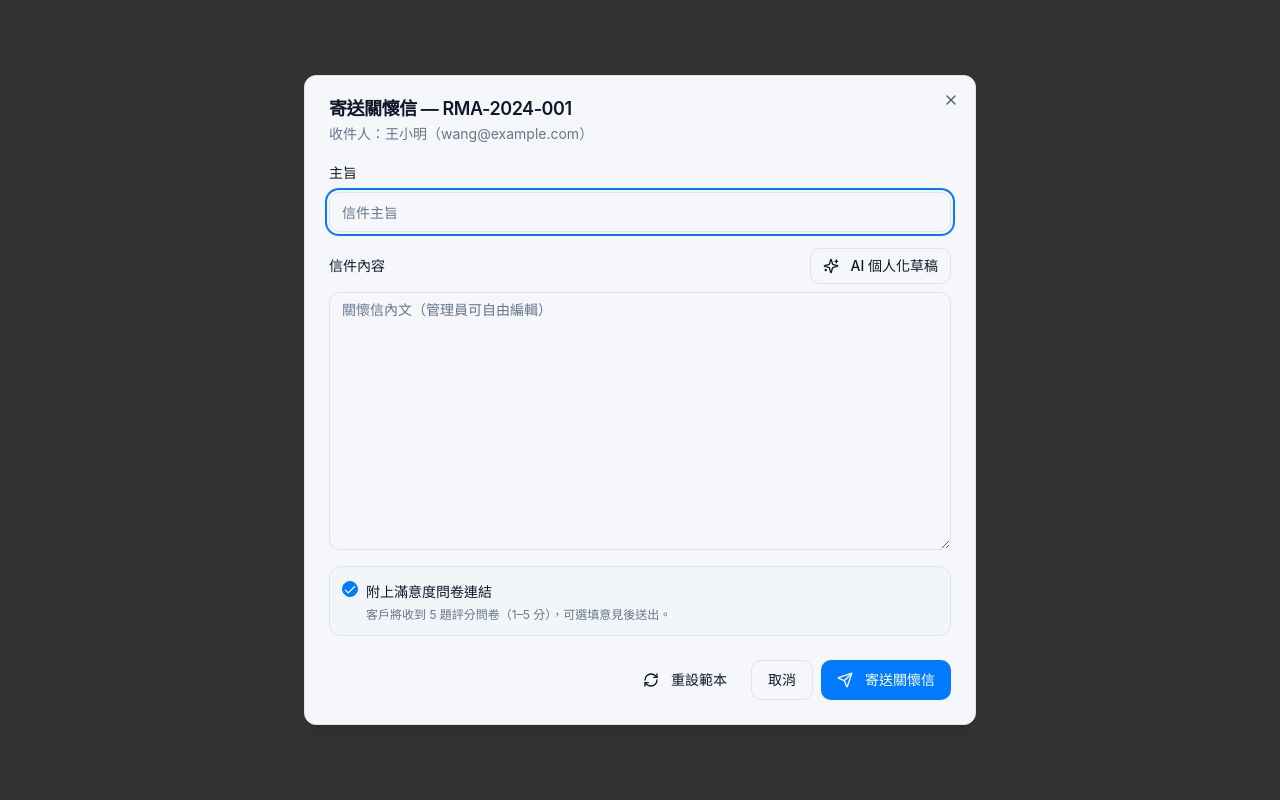
Test: FollowUpEmailDialog - AI 草稿 › 點「AI 個人化草稿」→ 呼叫 draft-follow-up-email，成功後填入 body 並顯示 toast
Click the button "AI 個人化草稿": point(880, 266) [810, 248, 951, 284]
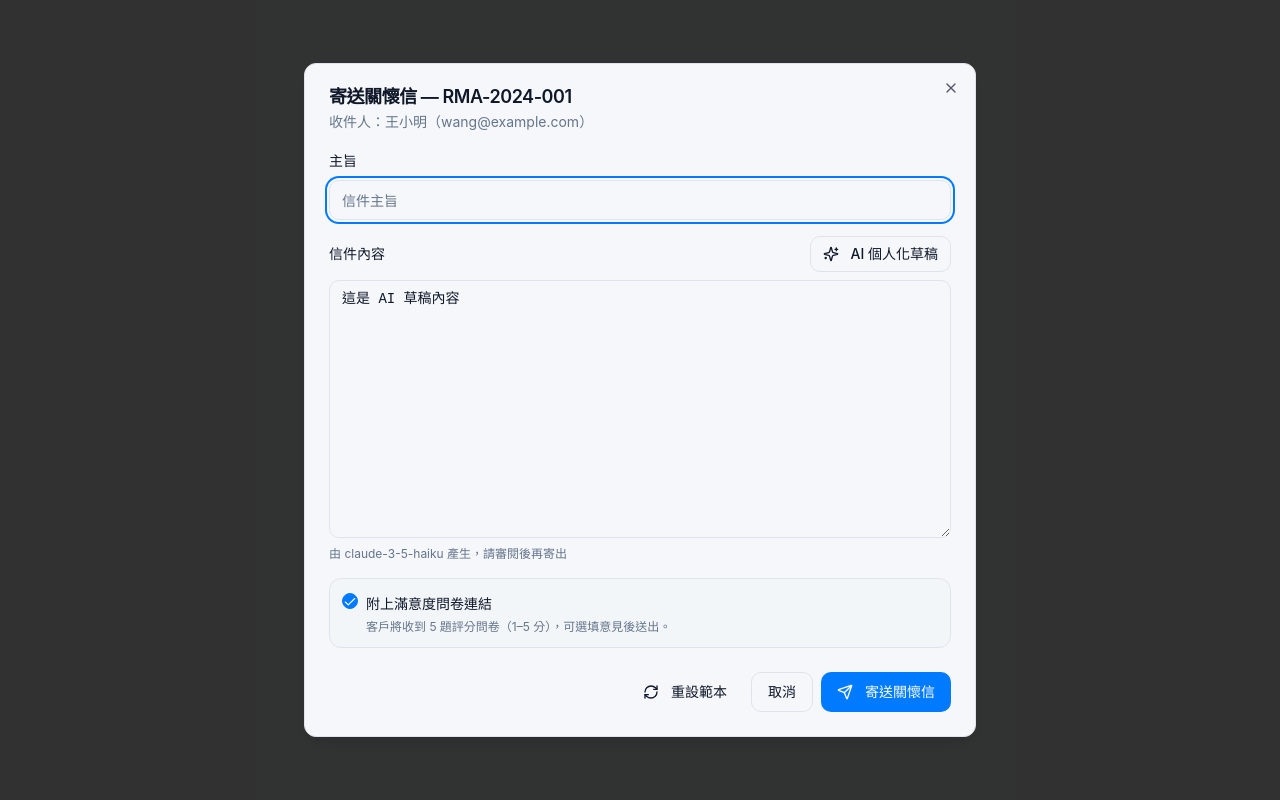
Check: the text box with placeholder "關懷信內文（管理員可自由編輯）" holds "這是 AI 草稿內容", box [329, 280, 951, 538]
Check: the text "由 claude-3-5-haiku 產生，請審閱後再寄出" is shown, box [329, 546, 567, 561]
